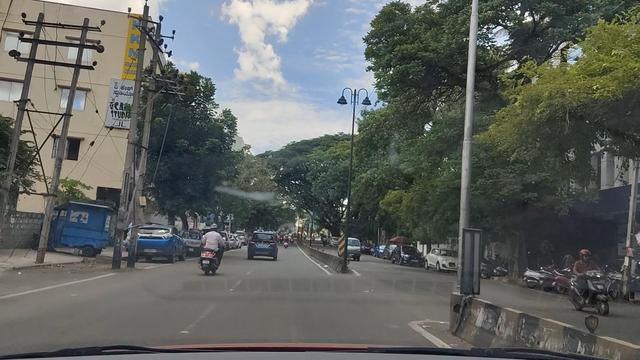LMV: (203, 226, 224, 273)
